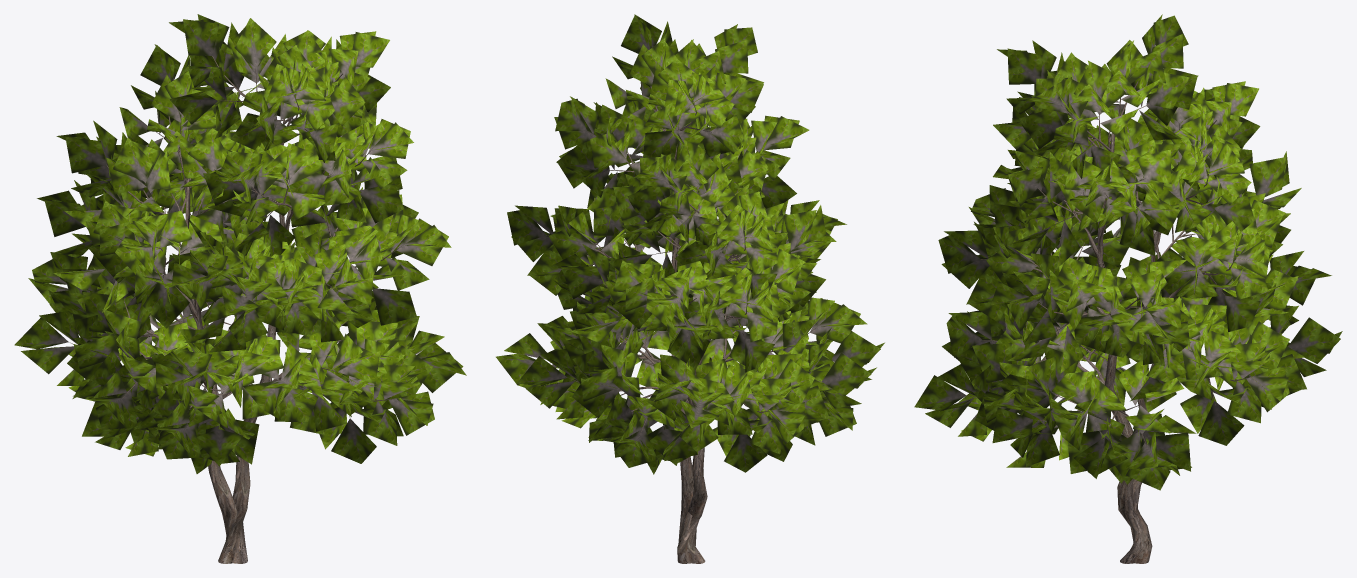
Rendered from Elm.fbx.
The picture shows the model from 3 angles, left to right: view 1: azimuth 30°, elevation 25°; view 2: azimuth 150°, elevation 25°; view 3: azimuth 270°, elevation 25°; orthographic projection. The views are drawn at different scales.
Visible parts, largest first — view 1: Tree_1, Tree_0; view 2: Tree_1, Tree_0; view 3: Tree_1, Tree_0.
Boxes of the visible parts, <box> form: Tree_1: <box>14,14,466,473</box>; Tree_0: <box>65,56,402,563</box>; Tree_1: <box>496,14,884,474</box>; Tree_0: <box>546,86,821,563</box>; Tree_1: <box>914,14,1342,490</box>; Tree_0: <box>963,81,1252,563</box>.
Size of the model in its own units: 64.52 by 92.59 by 68.09.
